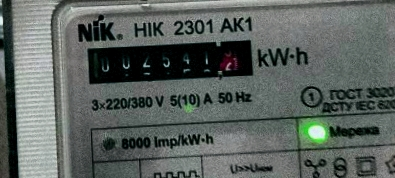0: (98, 51, 111, 73), (118, 48, 131, 70)
1: (199, 43, 211, 66)
2: (138, 46, 153, 69)
4: (179, 44, 191, 65)
5: (158, 46, 172, 69)
6: (222, 58, 233, 70)
screen: (74, 29, 265, 91)
